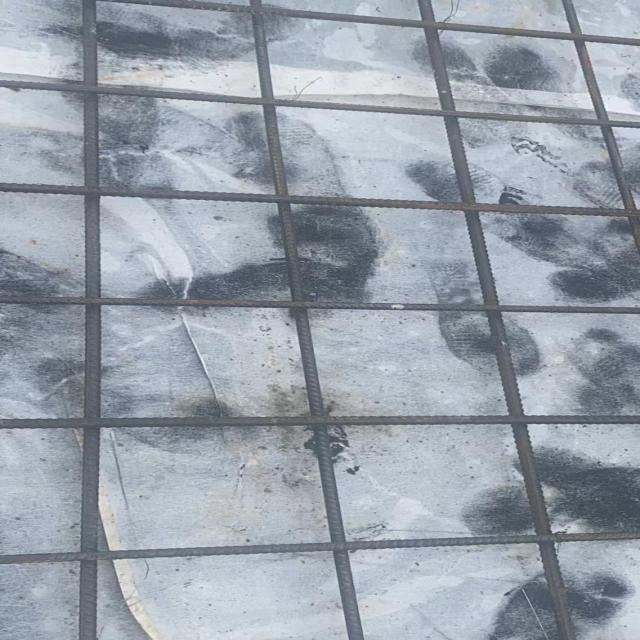ribbed bar: (416, 0, 576, 639), (247, 0, 364, 639), (0, 79, 638, 128), (100, 0, 638, 46), (0, 182, 638, 217), (0, 530, 638, 564), (559, 0, 638, 246), (78, 0, 97, 639), (0, 294, 638, 313), (0, 413, 638, 429)
